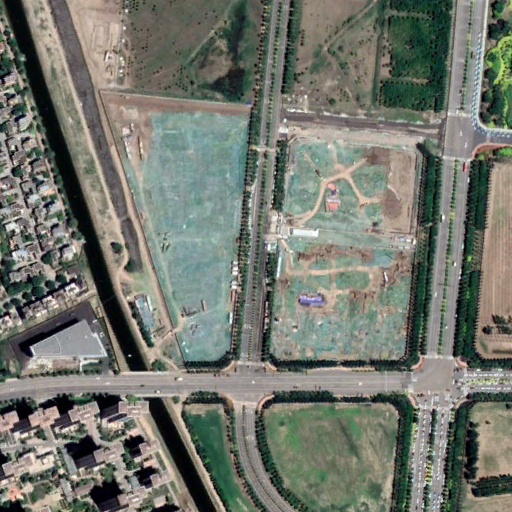cw: (95, 92, 249, 367), (270, 126, 410, 362)
